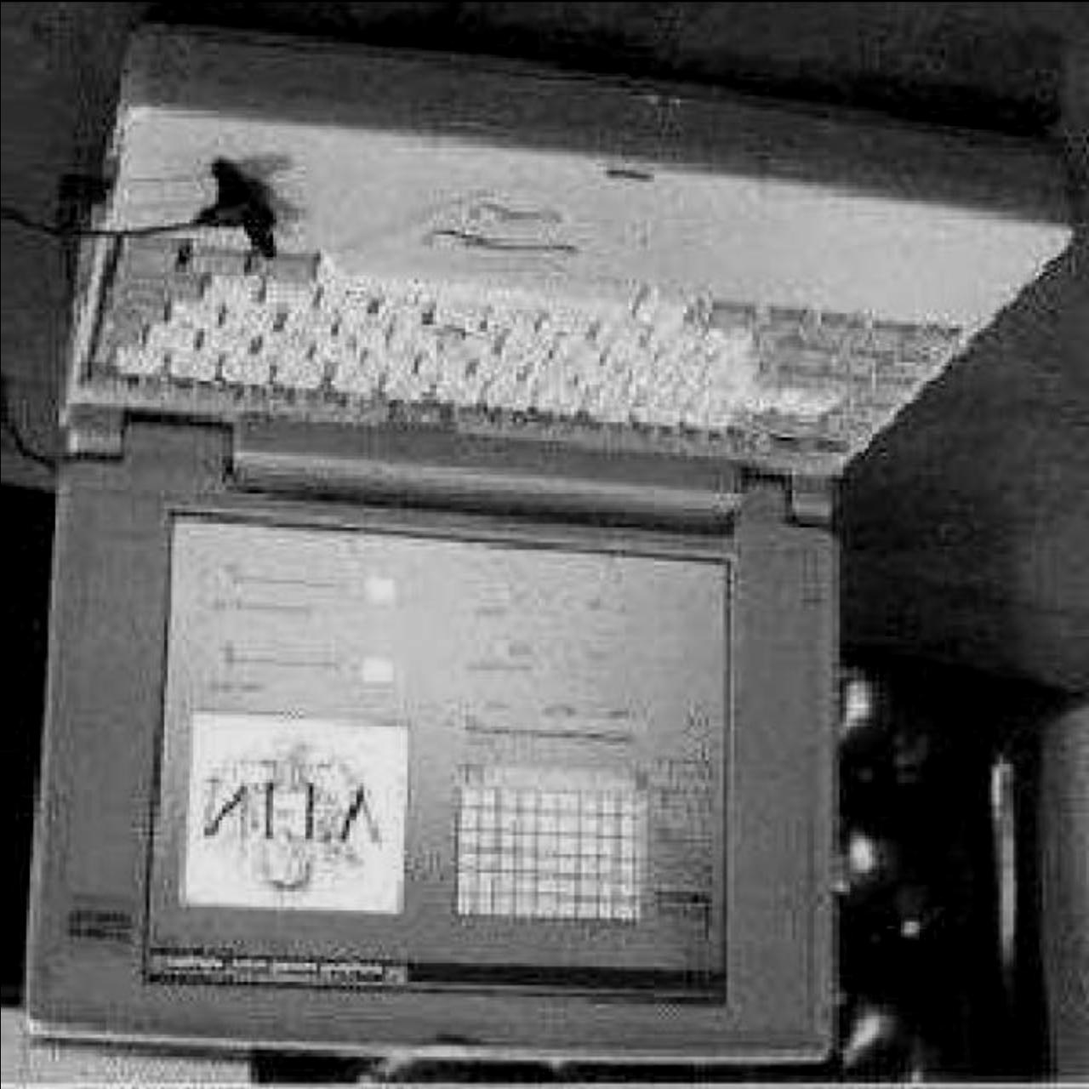laptop: (43, 7, 842, 1058)
